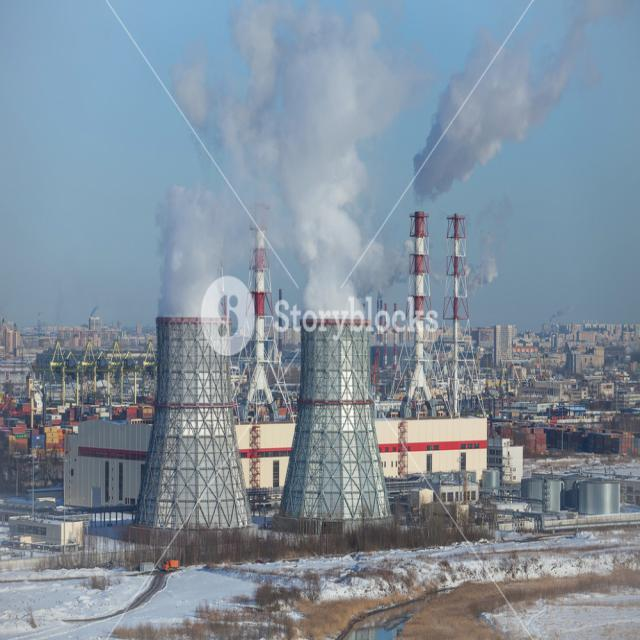Smoke: (153, 0, 629, 320)
